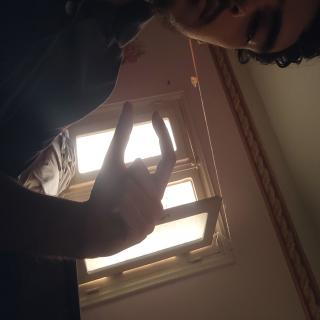DELL: (72, 187, 202, 320)
